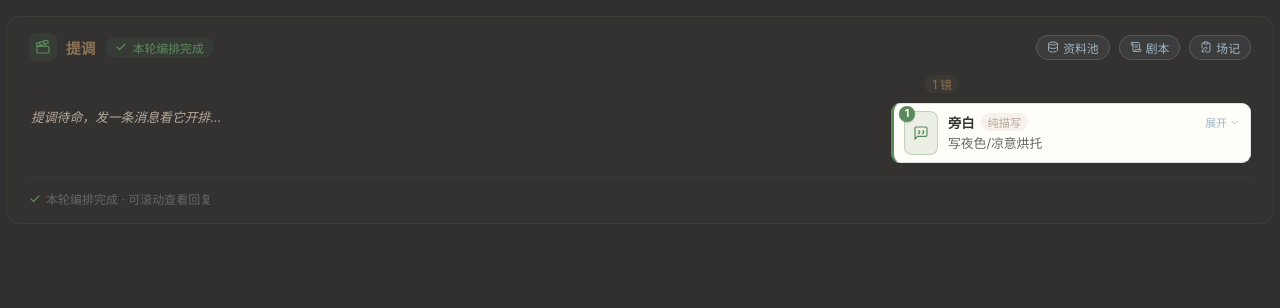
Test: TidiaoDirectorStreamBand › 形态1·E5 角色镜钻取（per-speaker 过程可见性） › 旁白镜 narrationGen 抽屉：定方向（done）→ 生成旁白（随 narrationGen 态 + 耗时）
The image size is (1280, 308).
Click the button with class "tds-shot-drill". click: coordinates (1223, 122)
box: x1=1205 y1=114 x2=1240 y2=130
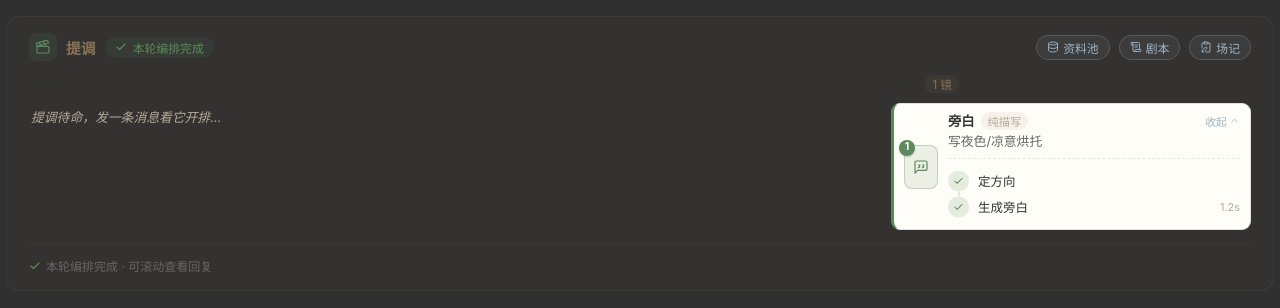
Expected: the text with class "tds-wf-label" reads "定方向", x1=978 y1=174 x2=1015 y2=189
Expected: the text with class "tds-wf-label" reads "生成旁白", x1=978 y1=200 x2=1028 y2=215
Expected: the element with class "tds-shot-detail" shows "1.2s", x1=1220 y1=200 x2=1240 y2=214
